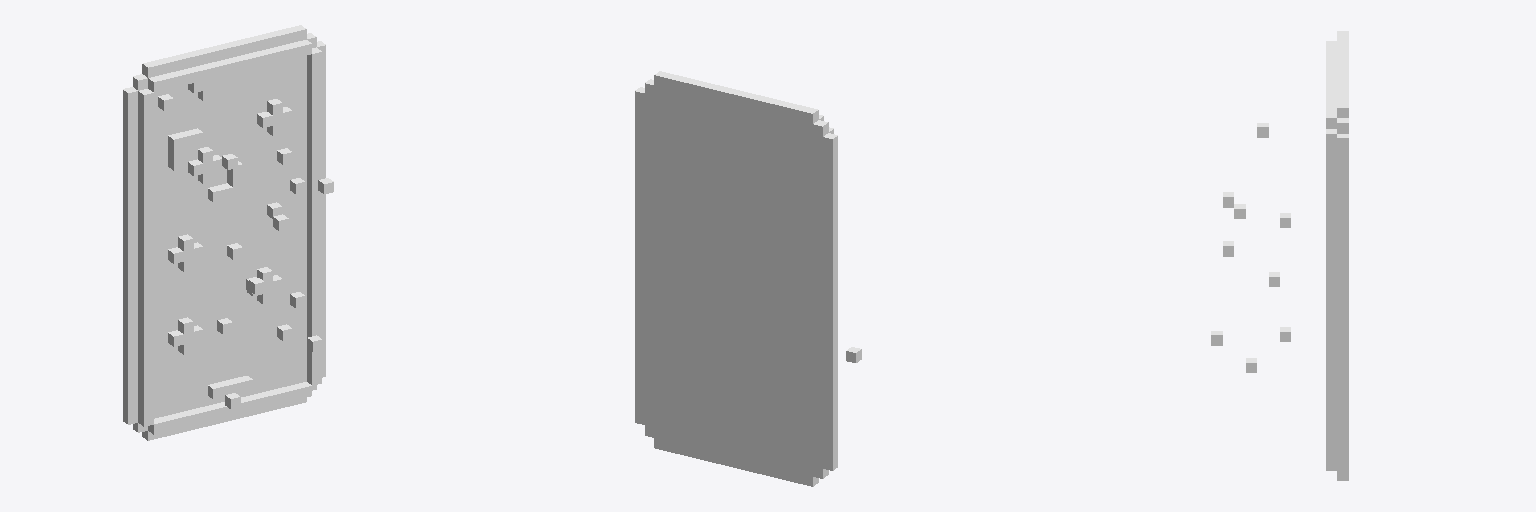
The model's file is phoneTapToDrop.obj.
The picture shows the model from 3 angles: view 1: azimuth 30°, elevation 25°; view 2: azimuth 150°, elevation 25°; view 3: azimuth 270°, elevation 25°; orthographic projection.
Size of the model in its own units: 20 by 36 by 12.